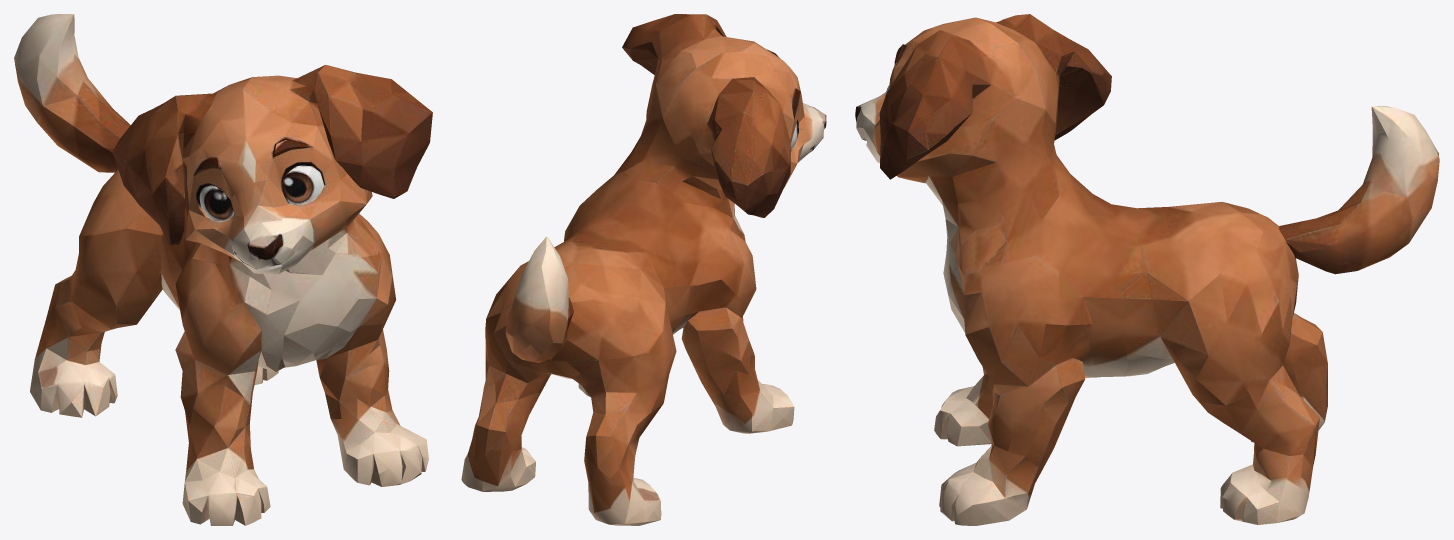
Rendered from pet-puppy.glb.
3 renders of one model, left to right at view 1: azimuth 30°, elevation 25°; view 2: azimuth 150°, elevation 25°; view 3: azimuth 270°, elevation 25°, orthographic. The views are drawn at different scales.
Size of the model in its own units: 0.9669 by 1.57 by 1.9.
1 material, 1 textured.
